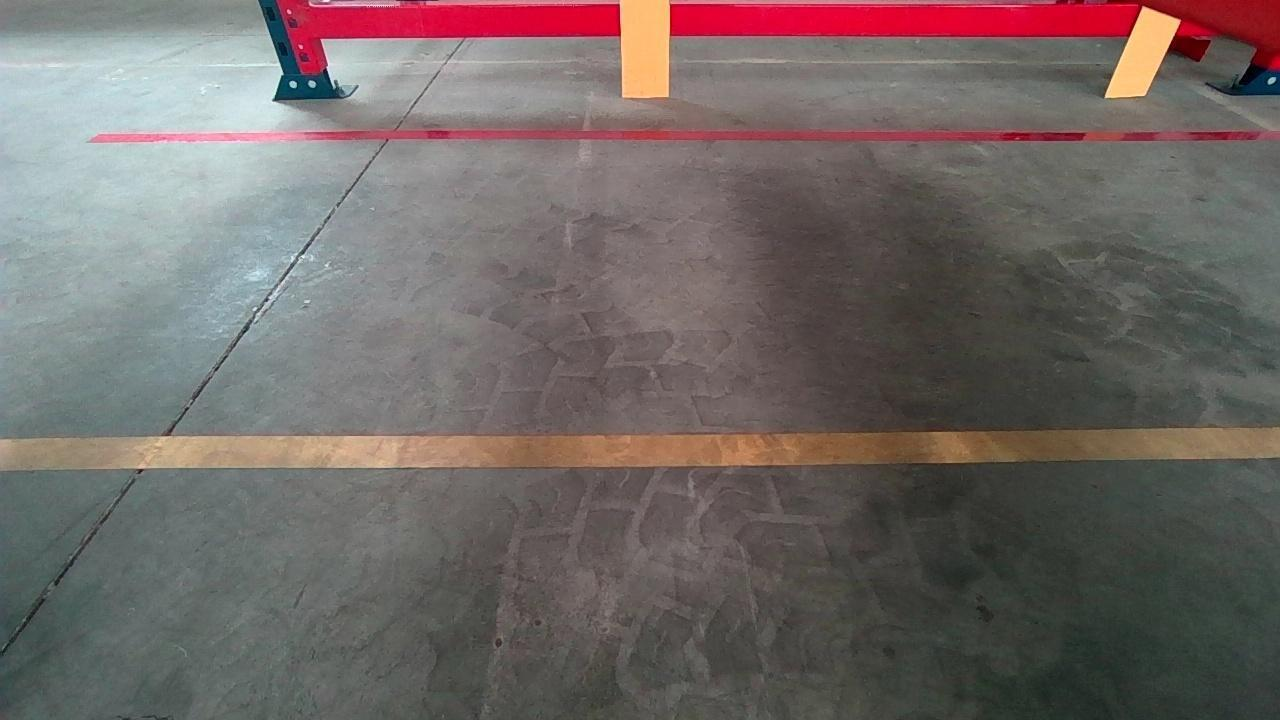h_rack: (310, 0, 1122, 45)
orange_strip: (1105, 5, 1183, 94), (620, 0, 671, 94)
red_line: (103, 126, 1270, 155)
yellow_line: (8, 420, 1275, 467)
